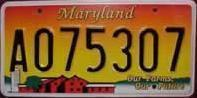placa de veiculo: (2, 2, 195, 97)
